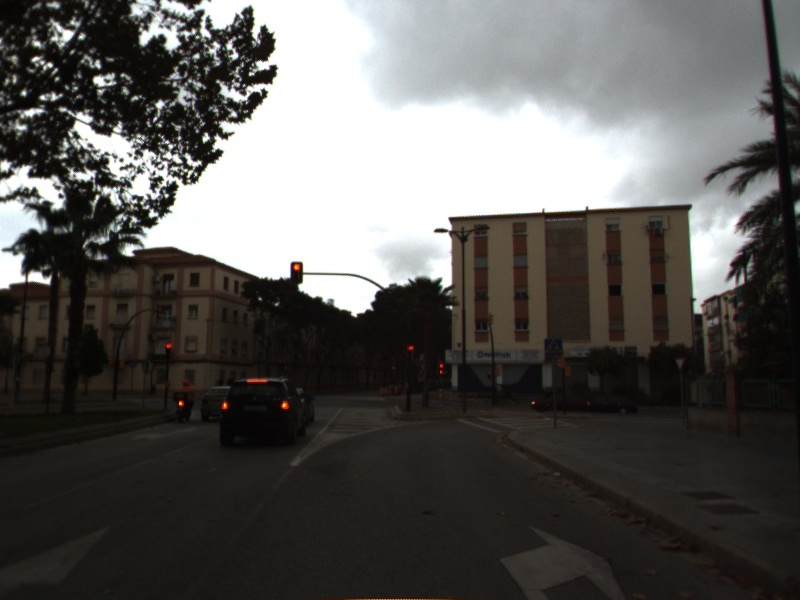RIGHT: (498, 519, 630, 600)
